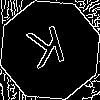K: (25, 25, 71, 78)
